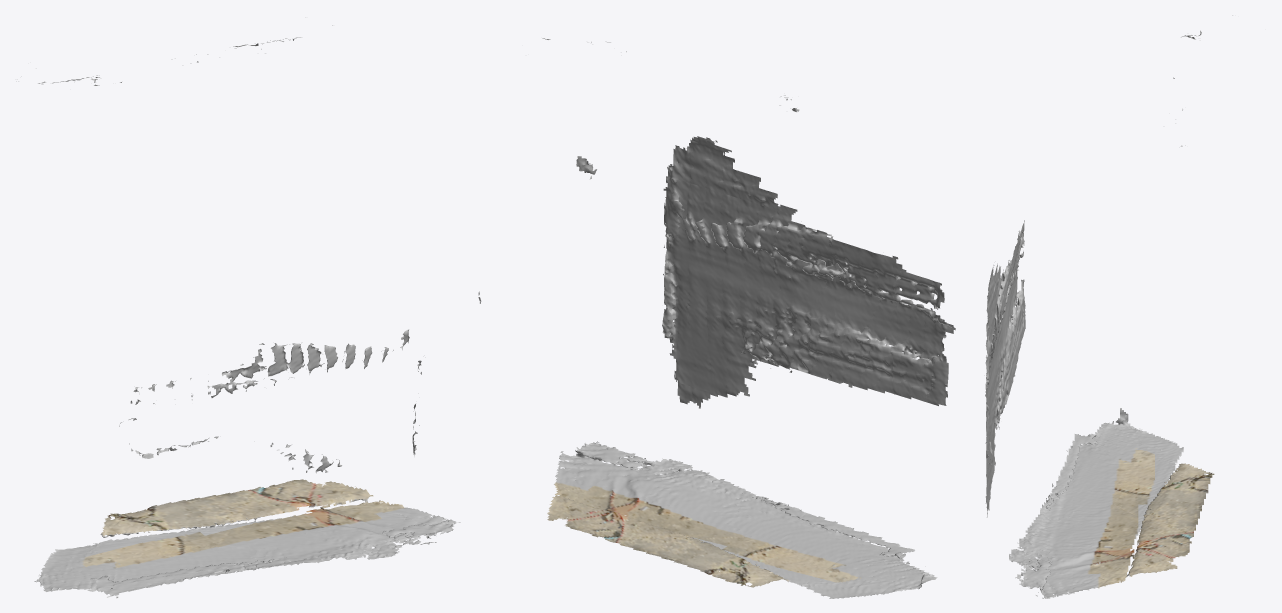
The picture shows the model from 3 angles, left to right: view 1: azimuth 30°, elevation 25°; view 2: azimuth 150°, elevation 25°; view 3: azimuth 270°, elevation 25°; orthographic projection. The views are drawn at different scales.
Bounding box in the file's own units: 4.13 × 4.7 × 2.76.
